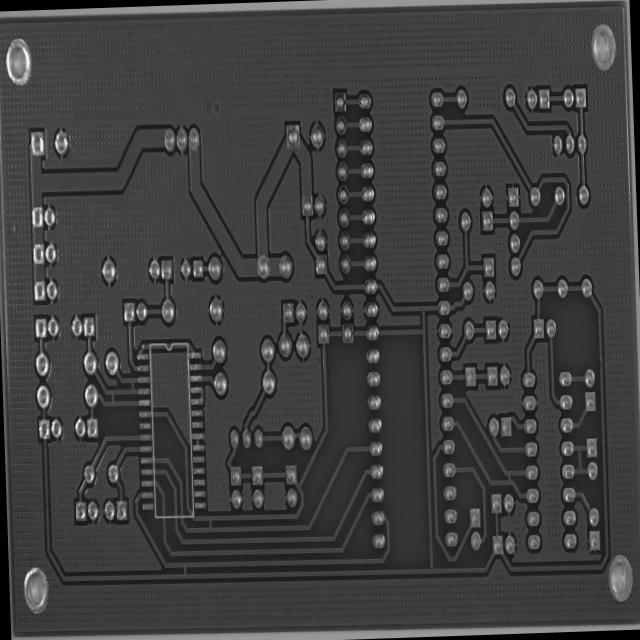short: (568, 438, 588, 479), (200, 509, 218, 536), (500, 461, 515, 488), (177, 558, 191, 582), (105, 388, 119, 412), (127, 374, 138, 395)
